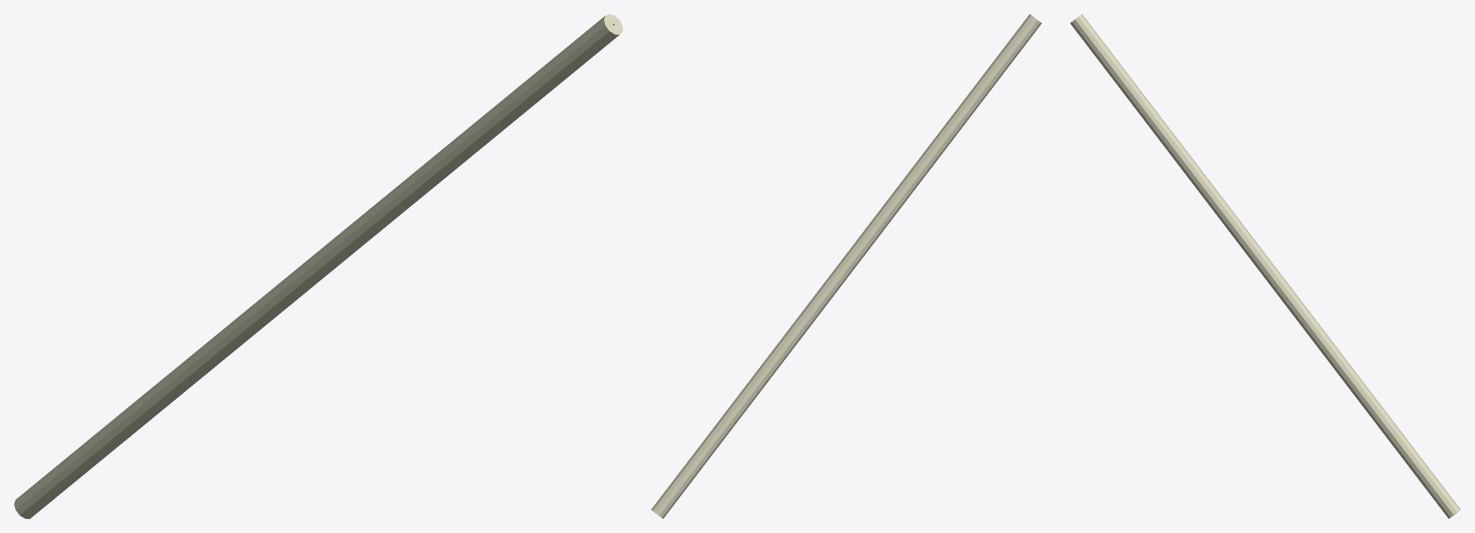
The model's file is tile_380.glb.
3 views of the same model, side by side, from view 1: azimuth 90°, elevation 25°; view 2: azimuth 150°, elevation 25°; view 3: azimuth 270°, elevation 25° (orthographic). The views are drawn at different scales.
Size of the model in its own units: 3.74 by 7.31 by 6.27.
